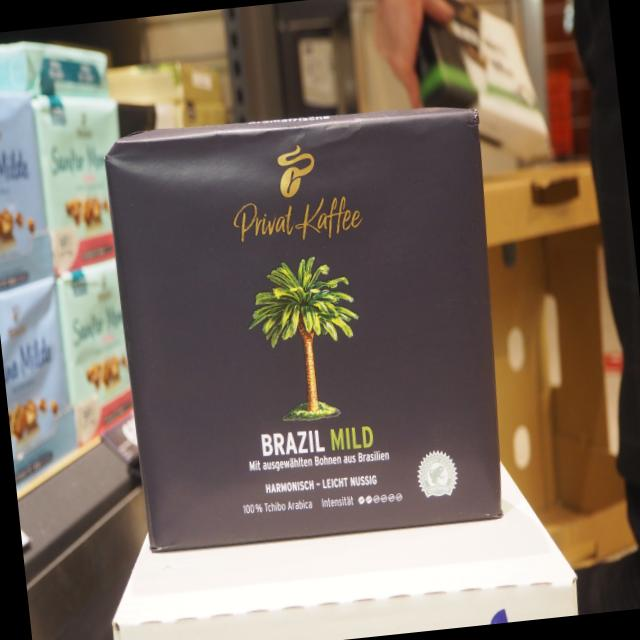BM Gemahlen: (99, 91, 527, 564)
